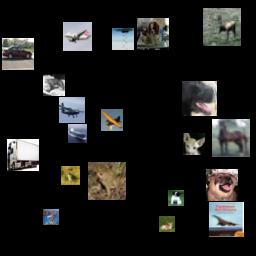airplane: (209, 202, 244, 237), (63, 22, 92, 51), (59, 97, 85, 123), (101, 109, 123, 131), (112, 28, 134, 50), (43, 209, 59, 225)
automobile: (2, 38, 34, 70)
bird: (61, 166, 80, 185)
cat: (43, 74, 65, 96), (183, 133, 205, 155)
deer: (203, 8, 241, 46), (159, 216, 175, 232)
dog: (182, 81, 217, 116), (137, 18, 169, 50), (206, 169, 238, 201), (168, 190, 184, 206)
frog: (88, 162, 126, 200)
ship: (68, 124, 87, 143)
truck: (7, 139, 39, 171)
